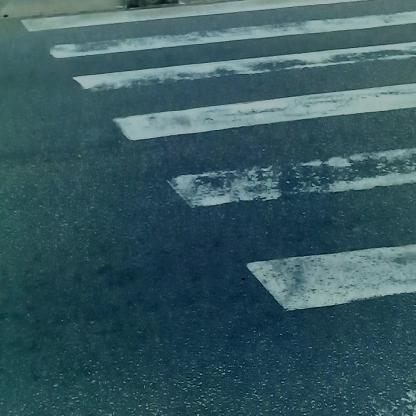crosswalk: (23, 12, 416, 312)
